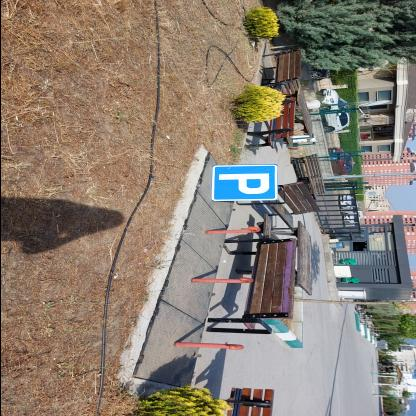Parking-Sign: (212, 165, 278, 203)
